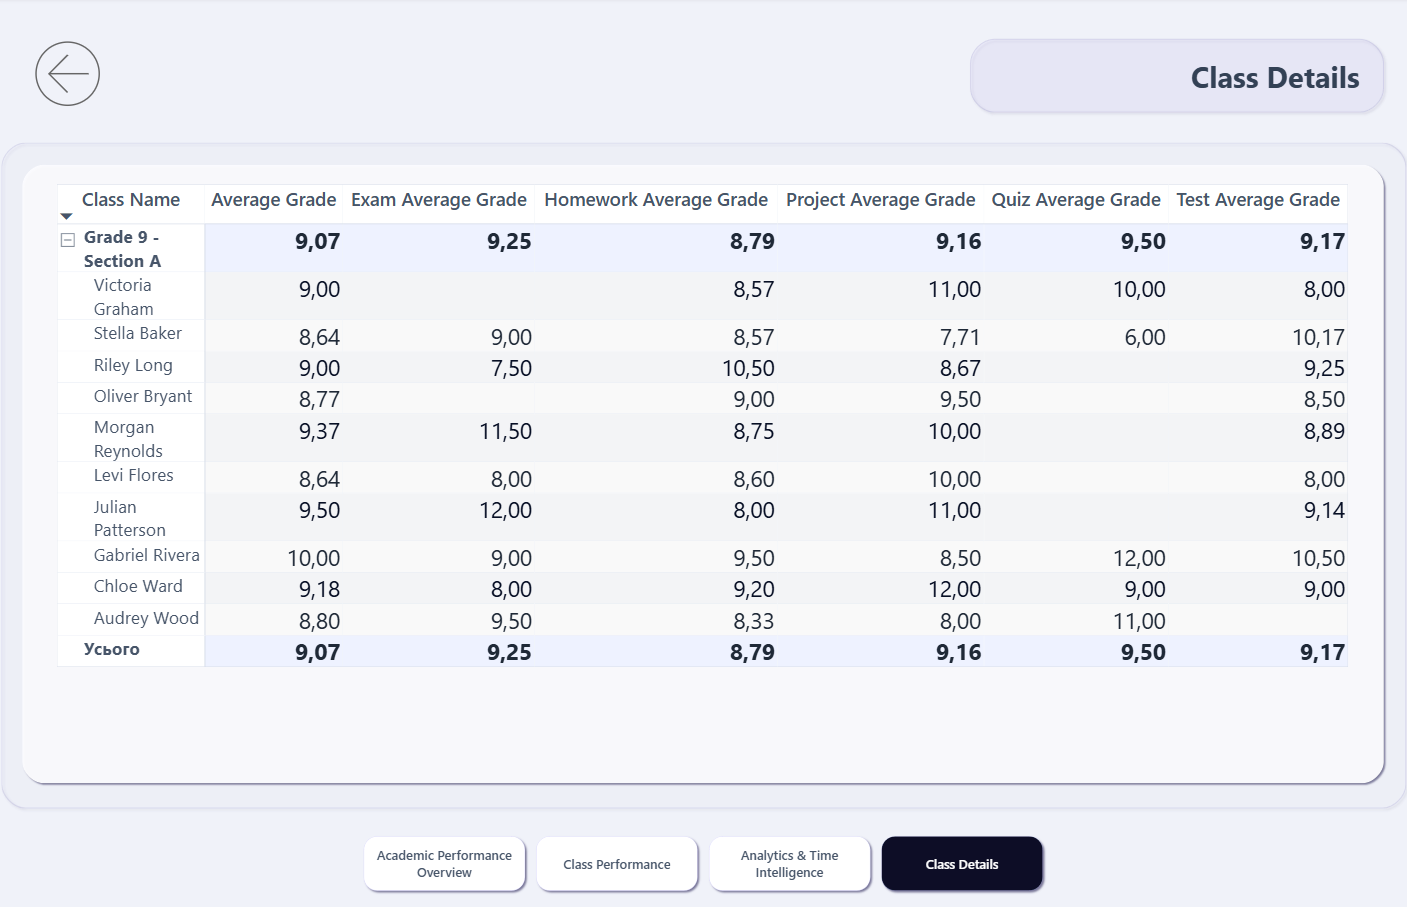

This screenshot's page, from the dashboard's own definition file:
{"tool":"powerbi","page":{"name":"Class Details","canvas":[2925,1900],"ordinal":3},"visuals":[{"type":"actionButton","box":[64.6,72.4,162.9,173.2],"z":0},{"type":"shape","box":[2002.7,78.5,874.1,170.5],"z":1000},{"type":"shape","box":[0,291.3,2924.4,1395.6],"z":2000},{"type":"pageNavigator","box":[749.1,1728.5,1424,130],"z":3000},{"type":"shape","title":"Homework Average Grade","box":[44.4,338.5,2832.8,1295.7],"z":4000},{"type":"pivotTable","fields":{"Rows":["classes.class_name","students.student_name"],"Values":["_Measures.Average Grade","_Measures.Exam Average Grade","_Measures.Homework Average Grade","_Measures.Project Average Grade","_Measures.Quiz Average Grade","_Measures.Test Average Grade"]},"box":[119.1,381.6,2684.7,1207],"z":5000}]}

Visuals, with their boxes in screenshot pixels (x1, y1, x2, y2), scaled from the page's 2925x1900 canvas onto the 1407x907 screenshot:
actionButton: [left=31, top=35, right=109, bottom=117]
shape: [left=963, top=37, right=1384, bottom=119]
shape: [left=0, top=139, right=1406, bottom=805]
pageNavigator: [left=360, top=825, right=1045, bottom=887]
"Homework Average Grade" shape: [left=21, top=162, right=1384, bottom=780]
pivotTable - classes.class_name x students.student_name: [left=57, top=182, right=1349, bottom=758]
